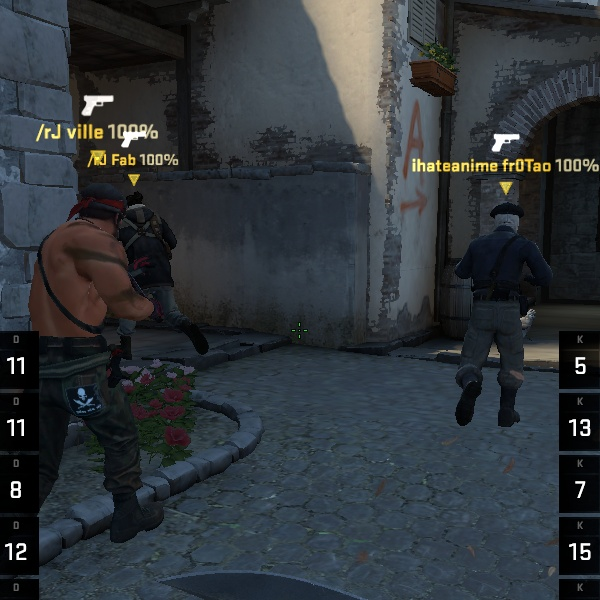t_body: (9, 186, 215, 549), (426, 210, 568, 432)
